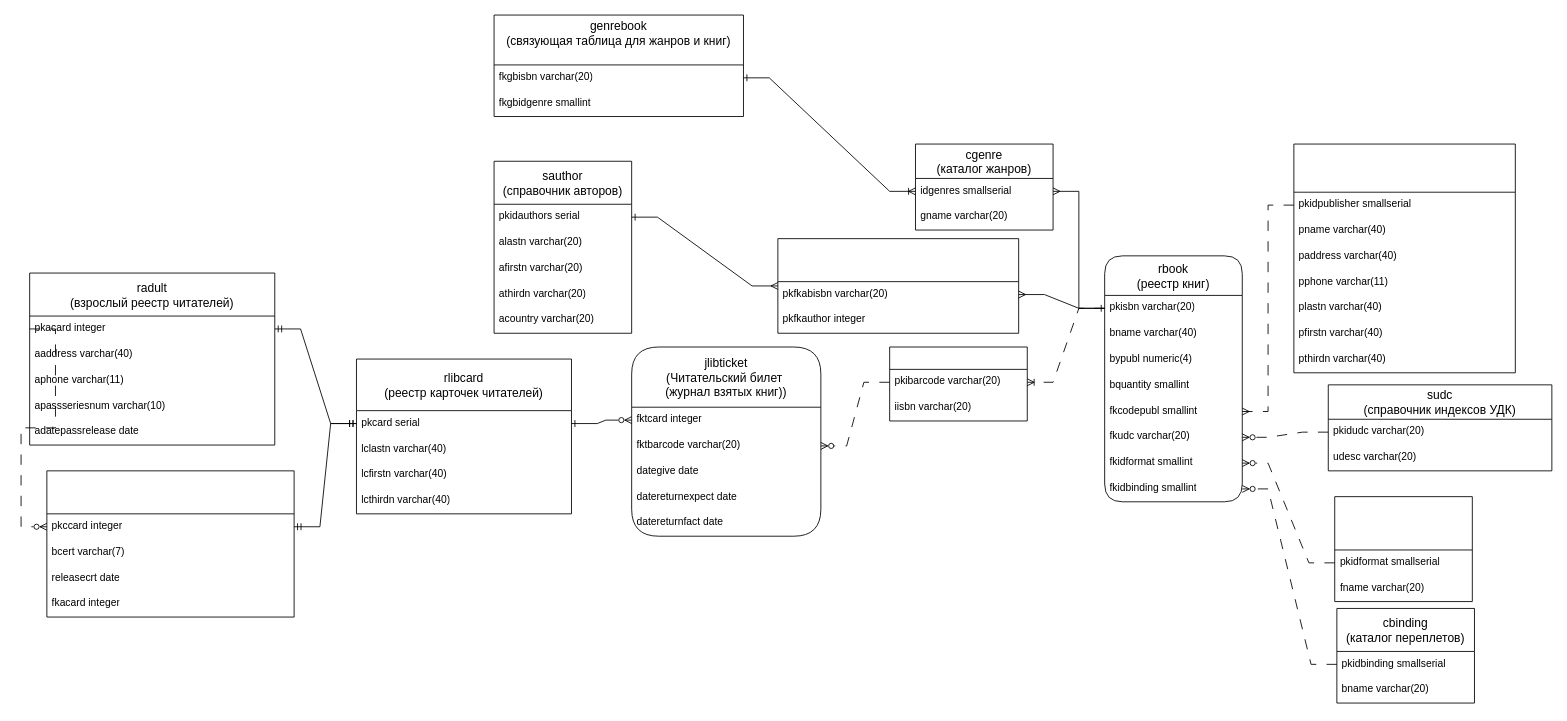
Image size: 1567x721. Some labels were removed from this diagram. Each missing label, with the box of its shape:
authorbook (связующая таблица авторов и книг): (777, 238, 1019, 333)
cformat (каталог форматов): (1334, 496, 1472, 602)
instancebook: (889, 346, 1027, 421)
rchild (детский реестр читатей): (46, 470, 294, 617)
spublisher (справочник издательств): (1293, 143, 1515, 373)
